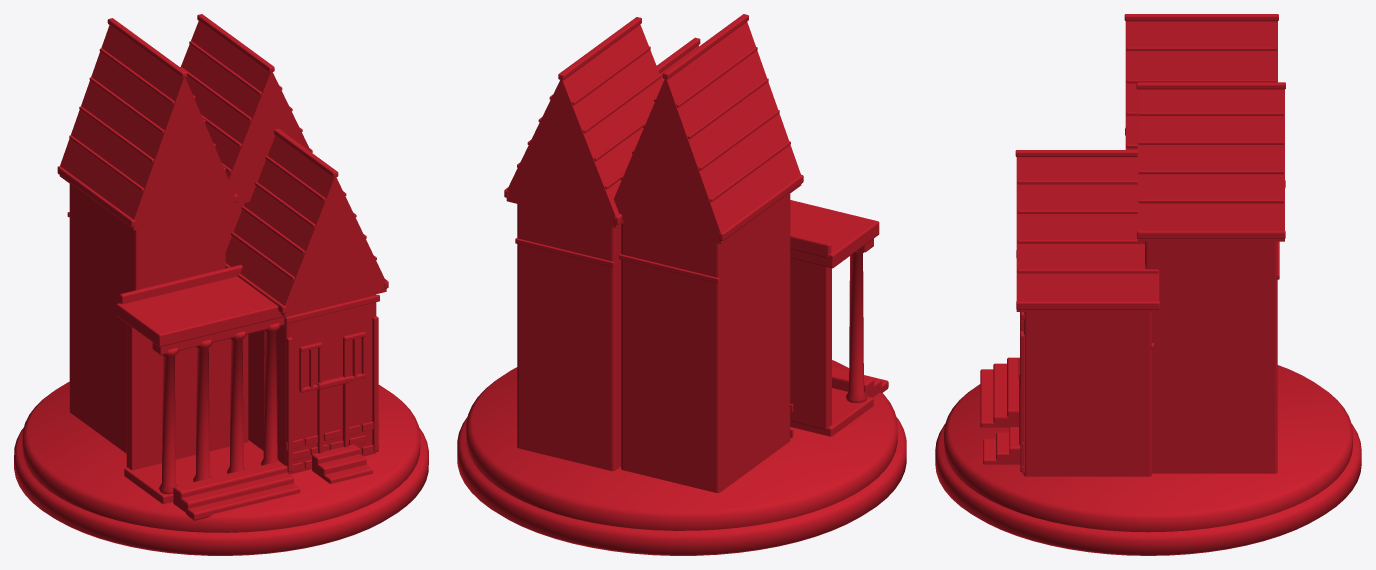
Rendered from city-red.fbx.
The picture shows the model from 3 angles, left to right: view 1: azimuth 30°, elevation 25°; view 2: azimuth 150°, elevation 25°; view 3: azimuth 270°, elevation 25°; orthographic projection. The views are drawn at different scales.
Parts seen in each view (by area): view 1: City_Moulded_Sculpt; view 2: City_Moulded_Sculpt; view 3: City_Moulded_Sculpt.
Part boxes in pixels (bbox=[...]): City_Moulded_Sculpt: bbox=[14, 14, 428, 555]; City_Moulded_Sculpt: bbox=[457, 14, 906, 555]; City_Moulded_Sculpt: bbox=[935, 14, 1361, 555].
Size of the model in its own units: 0.018 by 0.02 by 0.018.
